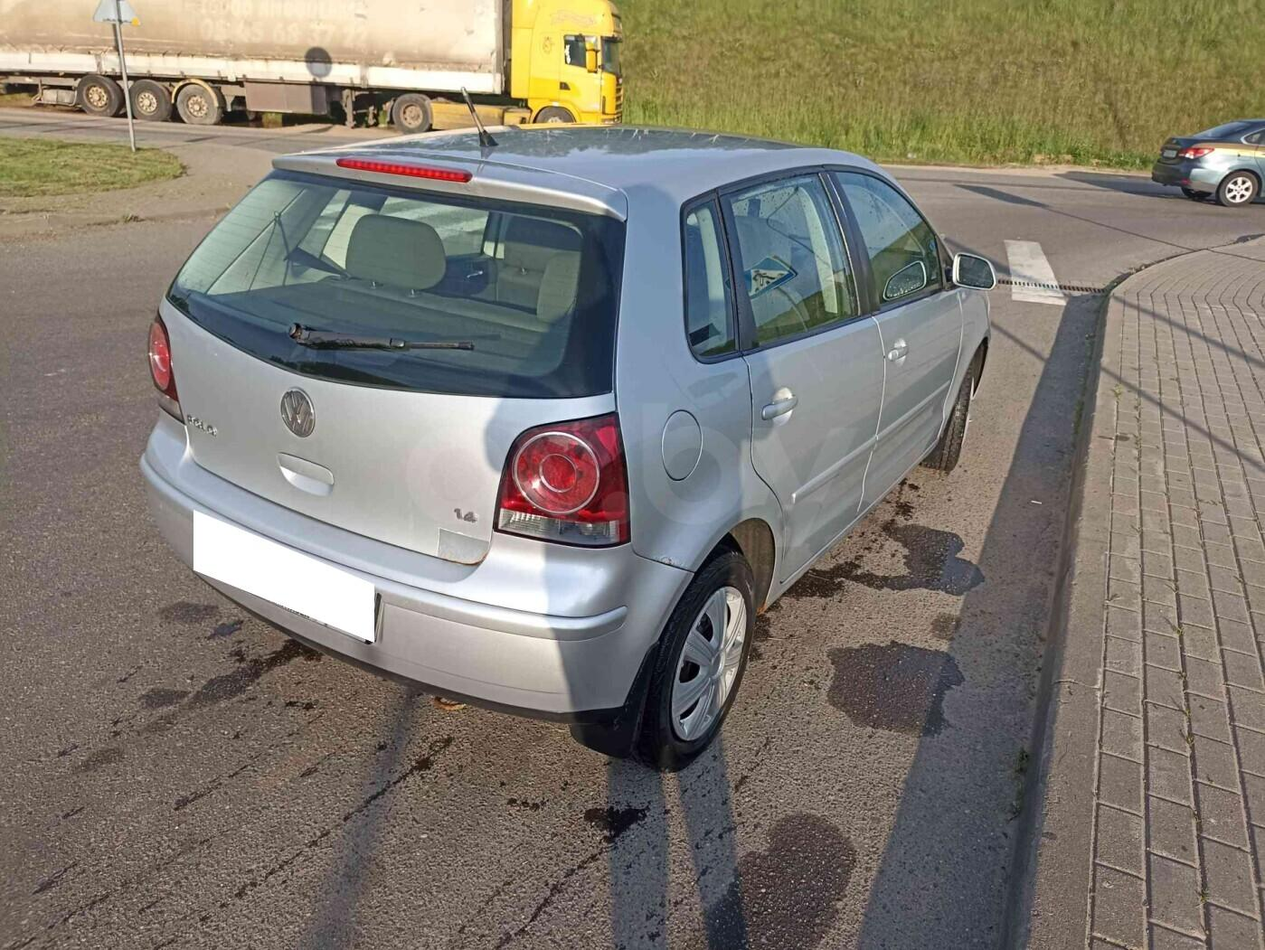Polo_2001-2005: (134, 120, 1005, 763)
